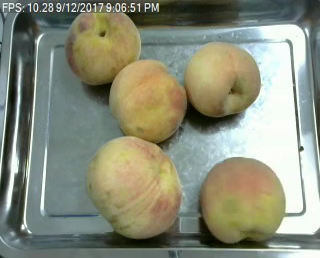Peach: (87, 134, 182, 241), (201, 158, 285, 245), (108, 59, 187, 143), (64, 6, 143, 85), (184, 38, 262, 116)
